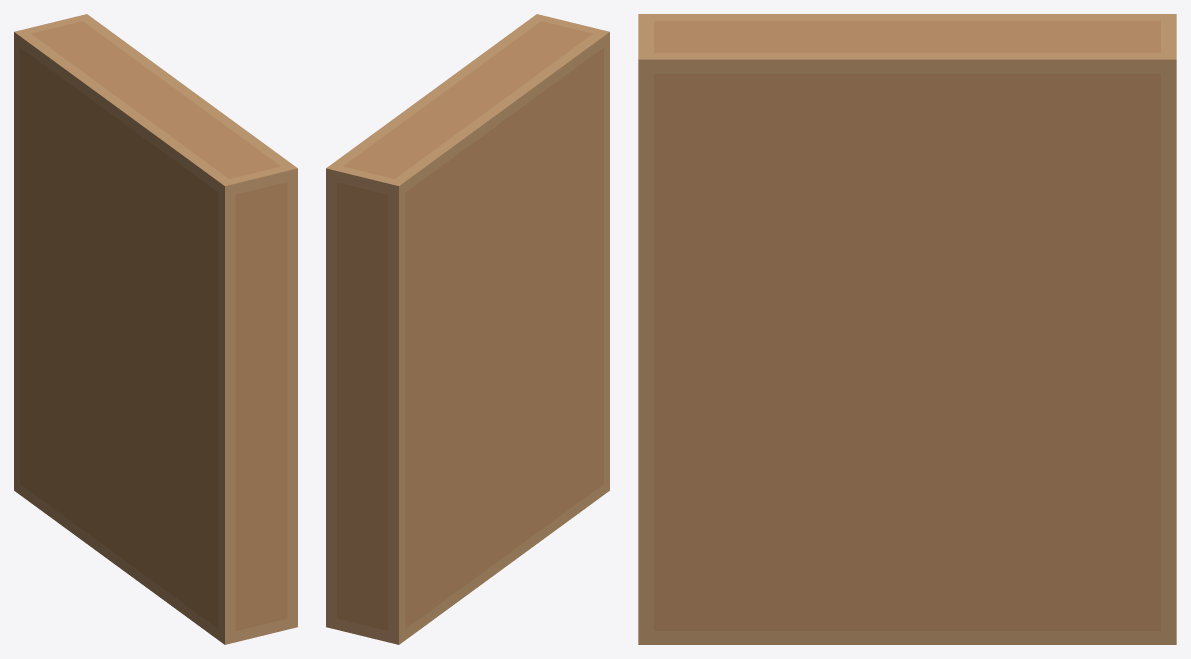
File: Wall_E_1_1.fbx
3 views of the same model, side by side, from view 1: azimuth 30°, elevation 25°; view 2: azimuth 150°, elevation 25°; view 3: azimuth 270°, elevation 25° (orthographic). The views are drawn at different scales.
Parts seen in each view (by area): view 1: Wall_E_1_1; view 2: Wall_E_1_1; view 3: Wall_E_1_1.
Boxes of the visible parts, left/top/right/bottom form: Wall_E_1_1: left=14, top=14, right=297, bottom=644; Wall_E_1_1: left=326, top=14, right=609, bottom=644; Wall_E_1_1: left=638, top=14, right=1176, bottom=644.
Size of the model in its own units: 40 by 240 by 200.
